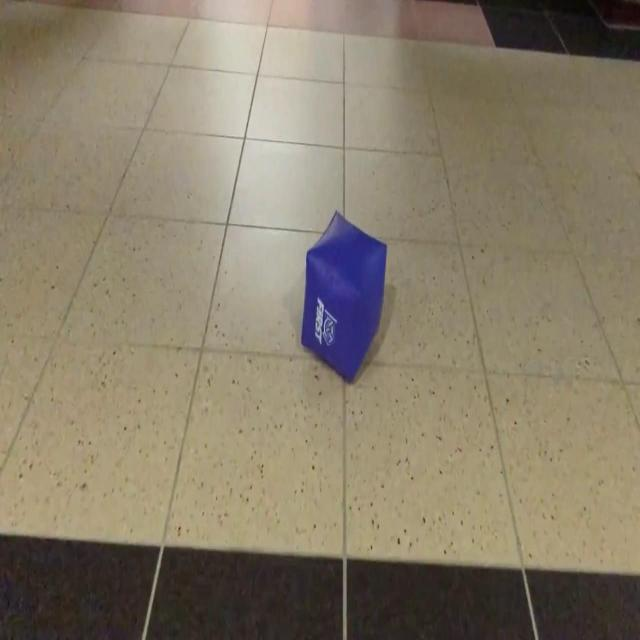frc_cube: (299, 212, 386, 385)
